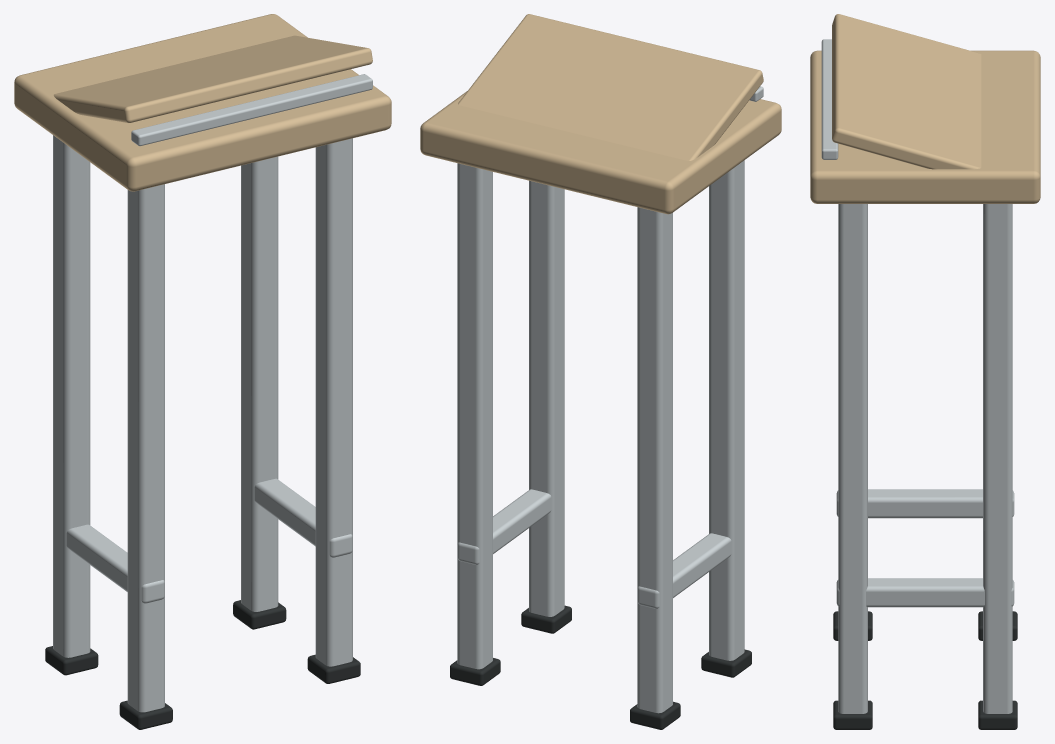
File: tabletop-hobby-store-and-club-rulebook-lectern-9195733c__31571.glb
3 renders of one model, left to right at view 1: azimuth 30°, elevation 25°; view 2: azimuth 150°, elevation 25°; view 3: azimuth 270°, elevation 25°, orthographic. The views are drawn at different scales.
Parts seen in each view (by area): view 1: rulebook-lectern; view 2: rulebook-lectern; view 3: rulebook-lectern.
Boxes of the visible parts, bbox=[...] form: rulebook-lectern: bbox=[14, 14, 391, 729]; rulebook-lectern: bbox=[420, 14, 781, 729]; rulebook-lectern: bbox=[810, 14, 1040, 729].
Size of the model in its own units: 0.45 by 1.02 by 0.35.
